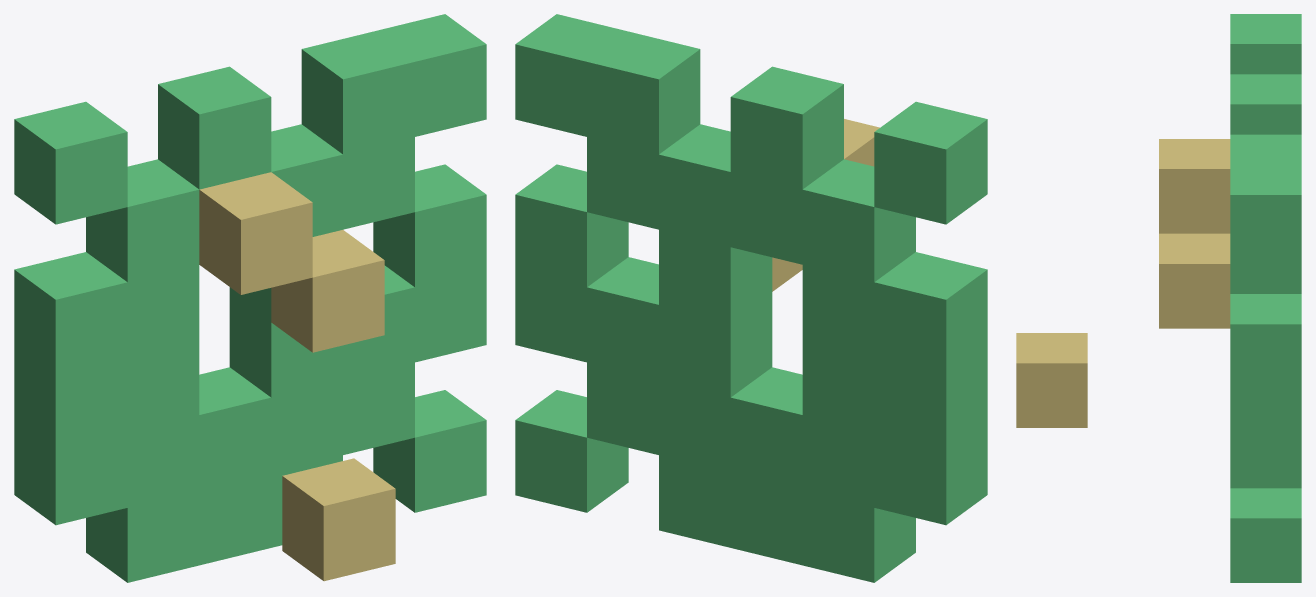
The model's file is vines.glb.
The picture shows the model from 3 angles, left to right: view 1: azimuth 30°, elevation 25°; view 2: azimuth 150°, elevation 25°; view 3: azimuth 270°, elevation 25°; orthographic projection. The views are drawn at different scales.
Size of the model in its own units: 1 by 1 by 0.6667.
